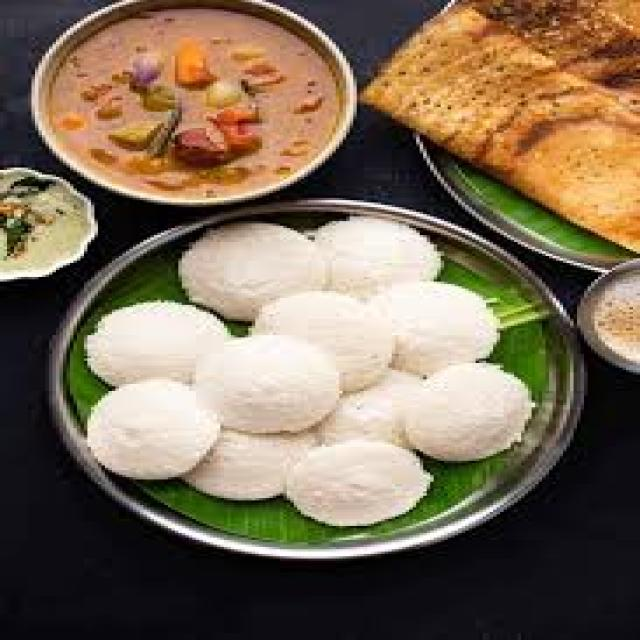IDLI: (248, 291, 388, 386), (395, 361, 528, 461), (280, 438, 427, 526), (84, 379, 217, 475), (84, 298, 224, 379), (311, 214, 434, 296)
